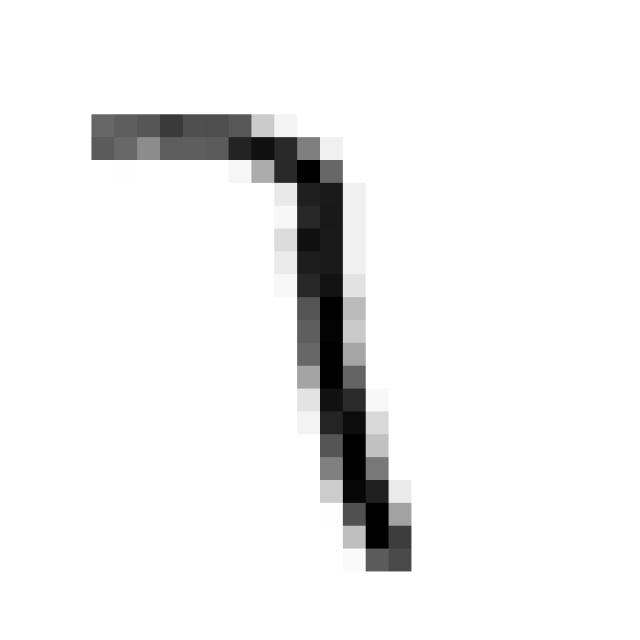6 -six-: (67, 90, 430, 598)
